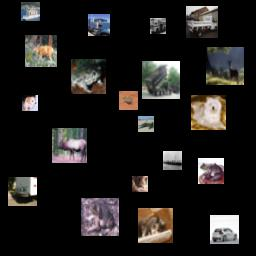airplane: (138, 116, 154, 132)
automobile: (210, 215, 239, 244)
cat: (138, 208, 173, 243), (132, 176, 148, 192)
deer: (206, 47, 244, 85), (52, 128, 87, 163), (25, 35, 57, 67)
dog: (191, 95, 226, 130), (22, 95, 38, 111)
frog: (81, 198, 119, 236), (71, 59, 106, 94), (198, 158, 224, 184), (119, 91, 138, 110)
ship: (163, 151, 182, 170), (21, 2, 40, 21)
truck: (142, 61, 180, 99), (186, 6, 218, 38), (8, 177, 37, 206), (88, 14, 110, 36), (150, 18, 166, 34)
